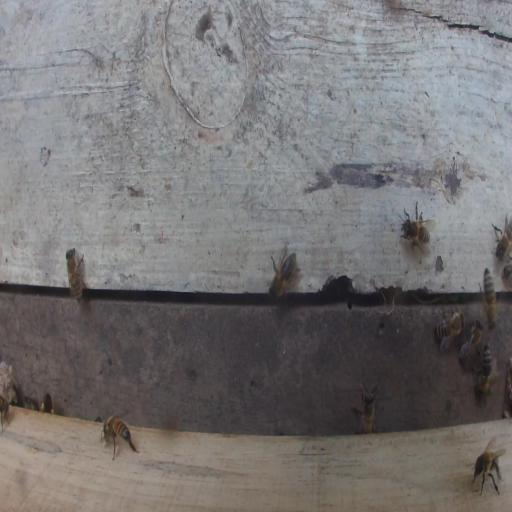nonpollenbee: (268, 243, 302, 302), (472, 439, 506, 496), (401, 200, 434, 256), (99, 414, 137, 461), (434, 308, 465, 353), (351, 383, 378, 434), (459, 319, 483, 370), (65, 246, 85, 302), (491, 212, 512, 260), (473, 342, 492, 395), (483, 266, 498, 331), (480, 343, 491, 385), (0, 395, 10, 431)
pollenbee: (39, 388, 56, 414)
